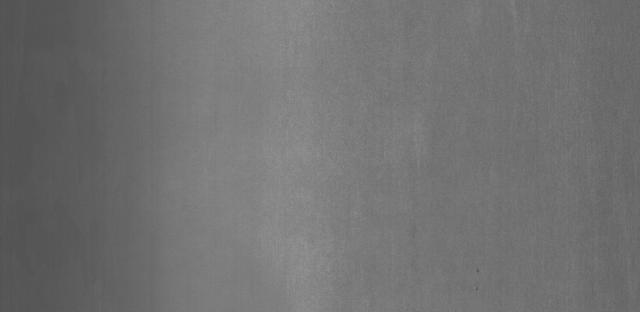inclusion: (474, 258, 484, 298)
